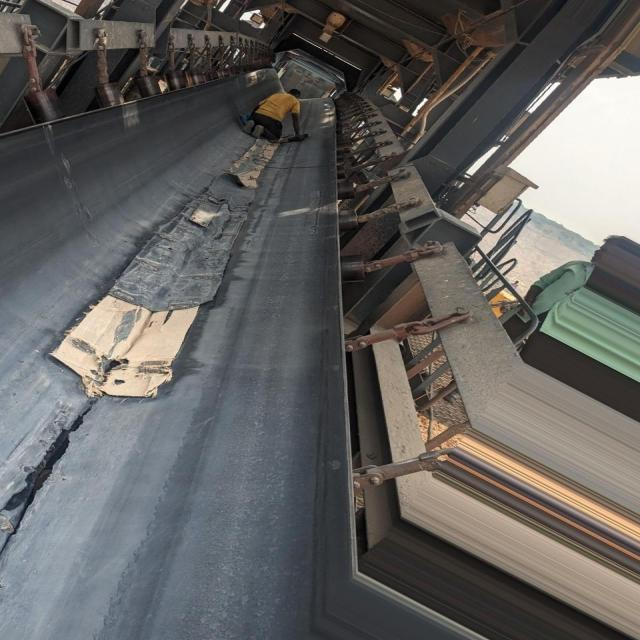Human: (241, 88, 311, 143)
Roller: (23, 63, 253, 124), (338, 126, 365, 282)
Tear: (3, 414, 84, 508)
patch work: (51, 172, 255, 398)
